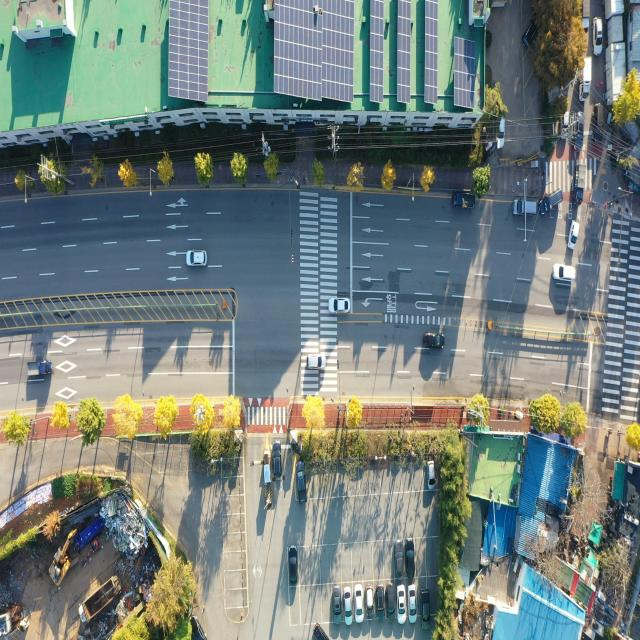car: (538, 186, 562, 216), (522, 14, 539, 50), (573, 110, 586, 153), (513, 198, 537, 218), (394, 537, 404, 582), (332, 584, 343, 624), (420, 587, 430, 631), (422, 333, 446, 351), (593, 99, 603, 140), (405, 537, 415, 577), (272, 439, 282, 479), (554, 264, 576, 282), (329, 298, 352, 315), (296, 460, 306, 499), (186, 249, 207, 267), (385, 583, 395, 620), (289, 547, 298, 586), (354, 583, 363, 620), (560, 110, 570, 142), (306, 354, 327, 369), (568, 221, 578, 251), (365, 586, 374, 619), (344, 588, 352, 625), (376, 582, 384, 617), (397, 586, 404, 623), (595, 19, 602, 56), (410, 587, 417, 623), (427, 461, 435, 490)
small_truck: (579, 55, 592, 100), (26, 358, 52, 379), (574, 165, 587, 202), (451, 194, 474, 211), (582, 0, 590, 34)
